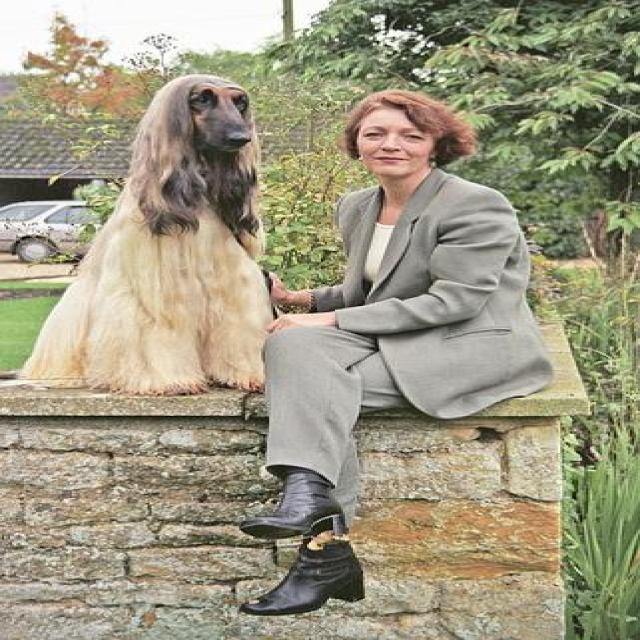afghan_hound: (12, 71, 277, 396)
